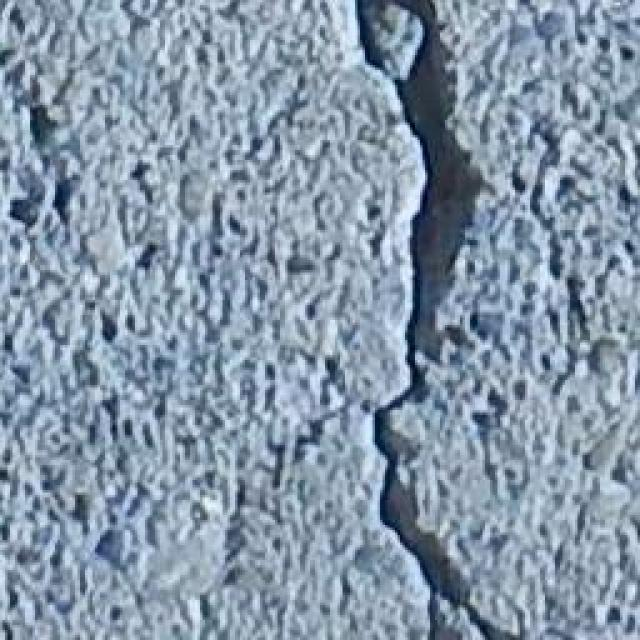concrete-crack: (350, 0, 532, 640)
